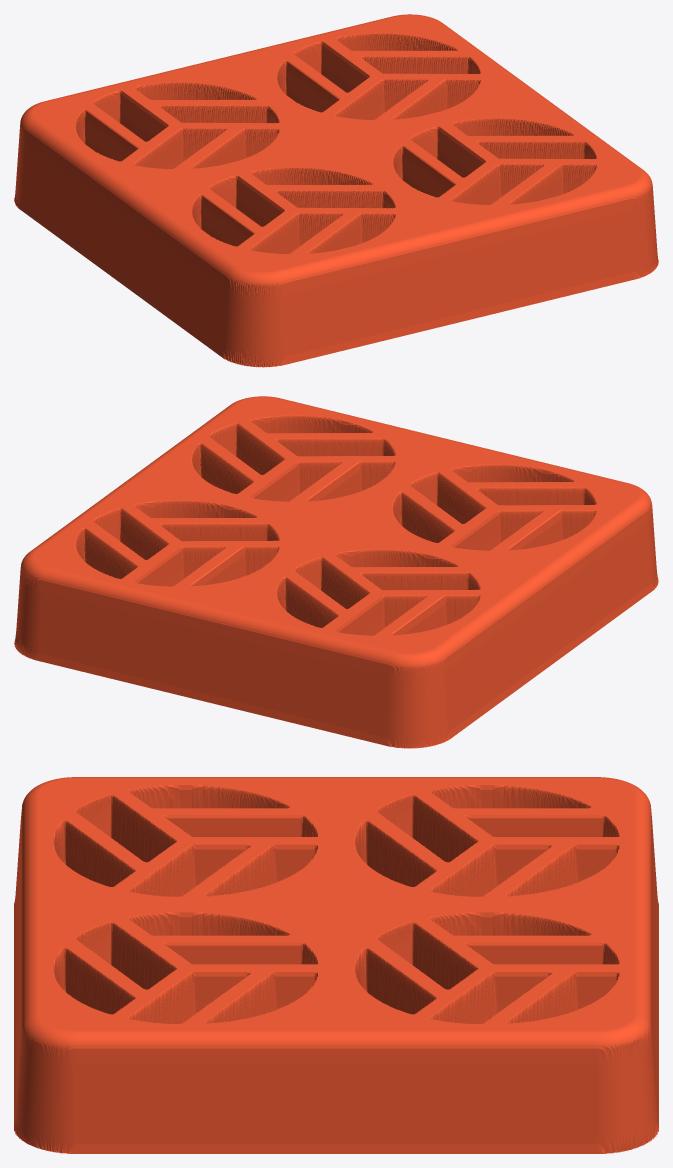
File: mold.glb
3 renders of one model, top to bottom at view 1: azimuth 30°, elevation 25°; view 2: azimuth 150°, elevation 25°; view 3: azimuth 270°, elevation 25°, orthographic. The views are drawn at different scales.
Parts seen in each view (by area): view 1: geometry_0; view 2: geometry_0; view 3: geometry_0.
Part boxes in pixels (x1,y1,x2,y2): geometry_0: [14, 14, 658, 367]; geometry_0: [14, 396, 658, 748]; geometry_0: [14, 777, 658, 1153].
Size of the model in its own units: 0.0942 by 0.0182 by 0.0942.
